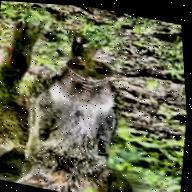boar: (0, 15, 173, 192)
